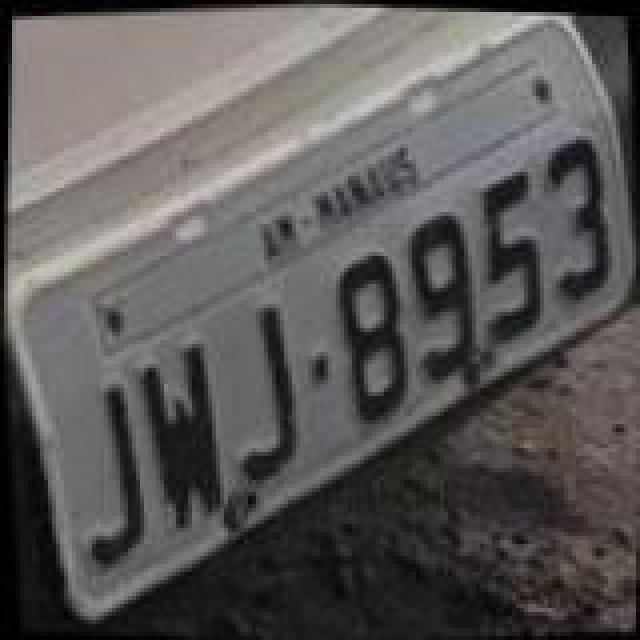3: (536, 130, 620, 310)
5: (468, 164, 548, 348)
8: (324, 242, 416, 422)
9: (398, 202, 490, 386)
J: (66, 374, 150, 570), (222, 300, 306, 484)
W: (130, 338, 234, 538)
